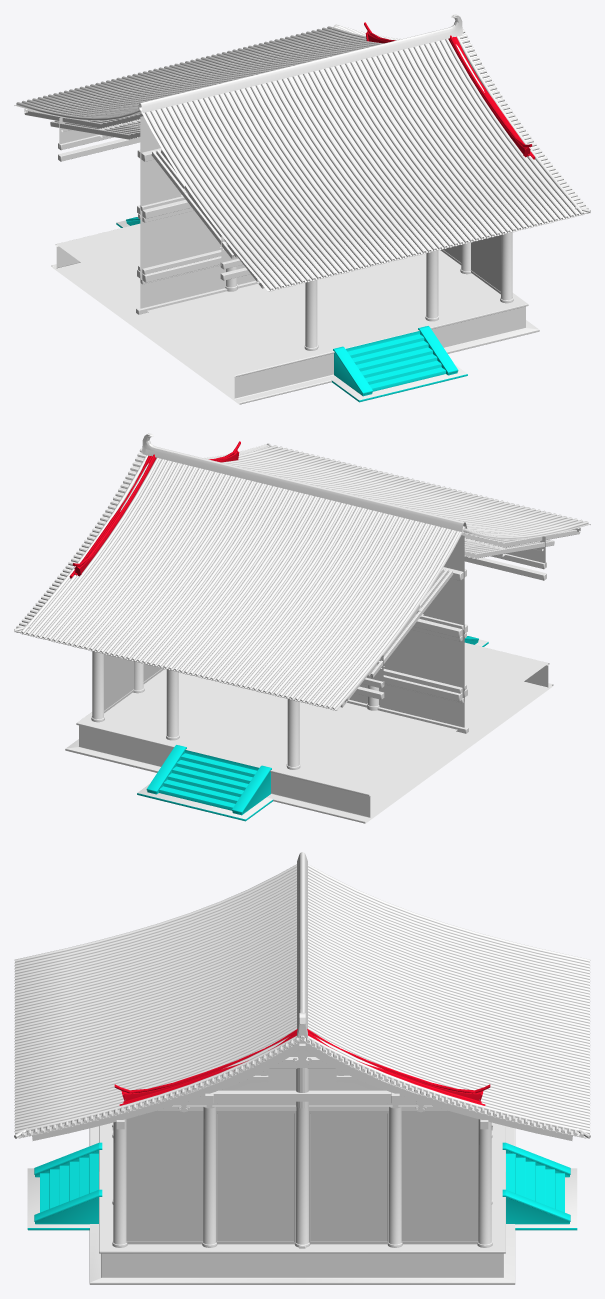
The model's file is Wall Big End.fbx.
3 views of the same model, one above another, from view 1: azimuth 30°, elevation 25°; view 2: azimuth 150°, elevation 25°; view 3: azimuth 270°, elevation 25° (orthographic). The views are drawn at different scales.
Visible parts, largest first — view 1: S_Heiankyo_Building_Roof_Long.003, S_Heiankyo_Building_Foundation_Loop.023, S_Heiankyo_Building_Foundation_Corner.009, S_Heiankyo_Building_WallClosed.091, S_Heiankyo_Building_StairSmall.015, S_Heiankyo_Building_Roof_End.002, S_Heiankyo_Building_UnderRoof_Long.003, S_Heiankyo_Building_Panel_Wall.004, S_Heiankyo_Building_Bar_Big.1096, S_Heiankyo_Building_Pillar_2.023, S_Heiankyo_Building_Pillar_2.024, S_Heiankyo_Building_Pillar_2.036 (+3 smaller); view 2: S_Heiankyo_Building_Roof_Long.003, S_Heiankyo_Building_Foundation_Loop.023, S_Heiankyo_Building_Foundation_Corner.009, S_Heiankyo_Building_WallClosed.091, S_Heiankyo_Building_StairSmall.015, S_Heiankyo_Building_Roof_End.002, S_Heiankyo_Building_UnderRoof_Long.003, S_Heiankyo_Building_Panel_Wall.004, S_Heiankyo_Building_Bar_Big.1096, S_Heiankyo_Building_Pillar_2.023, S_Heiankyo_Building_Pillar_2.024, S_Heiankyo_Building_Pillar_2.036 (+3 smaller); view 3: S_Heiankyo_Building_Roof_Long.003, S_Heiankyo_Building_Panel_Wall.003, S_Heiankyo_Building_Panel_Wall.004, S_Heiankyo_Building_Foundation_Corner.009, S_Heiankyo_Building_Roof_End.002, S_Heiankyo_Building_StairSmall.015, S_Heiankyo_Building_Pillar_2.035, S_Heiankyo_Building_Pillar_2.036, S_Heiankyo_Building_Pillar_2.034, S_Heiankyo_Building_Foundation_Loop.023.
Part boxes in pixels (x1,y1,x2,y2): S_Heiankyo_Building_Roof_Long.003: (14, 26, 584, 291); S_Heiankyo_Building_Foundation_Loop.023: (51, 223, 383, 404); S_Heiankyo_Building_Foundation_Corner.009: (317, 250, 539, 353); S_Heiankyo_Building_WallClosed.091: (140, 116, 255, 308); S_Heiankyo_Building_StairSmall.015: (116, 217, 467, 402); S_Heiankyo_Building_Roof_End.002: (331, 14, 590, 214); S_Heiankyo_Building_UnderRoof_Long.003: (24, 108, 264, 288); S_Heiankyo_Building_Panel_Wall.004: (470, 235, 500, 294); S_Heiankyo_Building_Bar_Big.1096: (58, 137, 250, 280); S_Heiankyo_Building_Pillar_2.023: (425, 250, 438, 321); S_Heiankyo_Building_Pillar_2.024: (304, 280, 318, 350); S_Heiankyo_Building_Pillar_2.036: (500, 232, 513, 303); S_Heiankyo_Building_Roof_Long.003: (20, 445, 590, 710); S_Heiankyo_Building_Foundation_Loop.023: (221, 642, 553, 823); S_Heiankyo_Building_Foundation_Corner.009: (65, 669, 287, 772); S_Heiankyo_Building_WallClosed.091: (349, 535, 464, 727); S_Heiankyo_Building_StairSmall.015: (137, 636, 488, 821); S_Heiankyo_Building_Roof_End.002: (14, 433, 273, 633); S_Heiankyo_Building_UnderRoof_Long.003: (340, 527, 580, 707); S_Heiankyo_Building_Panel_Wall.004: (104, 654, 134, 713); S_Heiankyo_Building_Bar_Big.1096: (354, 556, 546, 699); S_Heiankyo_Building_Pillar_2.023: (166, 669, 179, 740); S_Heiankyo_Building_Pillar_2.024: (286, 699, 300, 769); S_Heiankyo_Building_Pillar_2.036: (91, 651, 104, 722); S_Heiankyo_Building_Roof_Long.003: (14, 852, 590, 1134); S_Heiankyo_Building_Panel_Wall.003: (216, 1111, 388, 1244); S_Heiankyo_Building_Panel_Wall.004: (126, 1111, 478, 1244); S_Heiankyo_Building_Foundation_Corner.009: (89, 1171, 515, 1284); S_Heiankyo_Building_Roof_End.002: (14, 1009, 590, 1140); S_Heiankyo_Building_StairSmall.015: (27, 1142, 577, 1230); S_Heiankyo_Building_Pillar_2.035: (202, 1107, 402, 1247); S_Heiankyo_Building_Pillar_2.036: (112, 1119, 492, 1247); S_Heiankyo_Building_Pillar_2.034: (294, 1107, 310, 1247); S_Heiankyo_Building_Foundation_Loop.023: (89, 1122, 515, 1172).
Size of the model in its own units: 883 by 632 by 1192.
